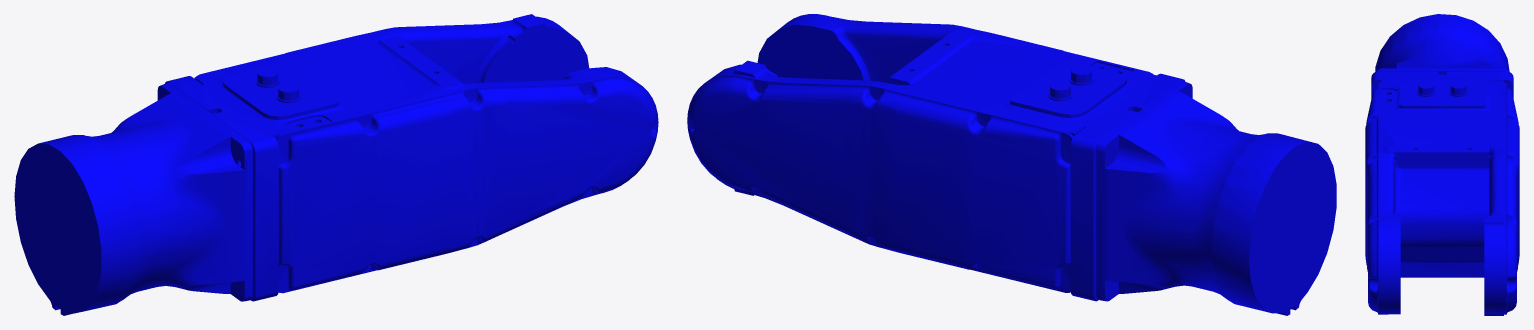
The model's file is MH5L_R_AXIS.dae.
3 views of the same model, side by side, from view 1: azimuth 30°, elevation 25°; view 2: azimuth 150°, elevation 25°; view 3: azimuth 270°, elevation 25° (orthographic). The views are drawn at different scales.
Parts seen in each view (by area): view 1: node; view 2: node; view 3: node.
Part boxes in pixels (<box>): node: <box>14,14,658,315</box>; node: <box>687,14,1336,315</box>; node: <box>1365,14,1519,315</box>.
Bounding box in the file's own units: 0.3695 × 0.114 × 0.1126.
